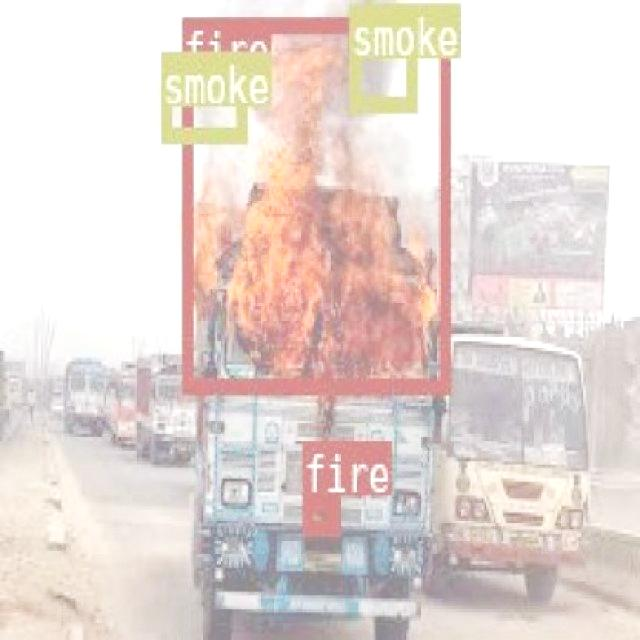fire: (180, 15, 446, 391), (302, 494, 336, 534)
smoke: (158, 50, 244, 138), (347, 2, 415, 108)
